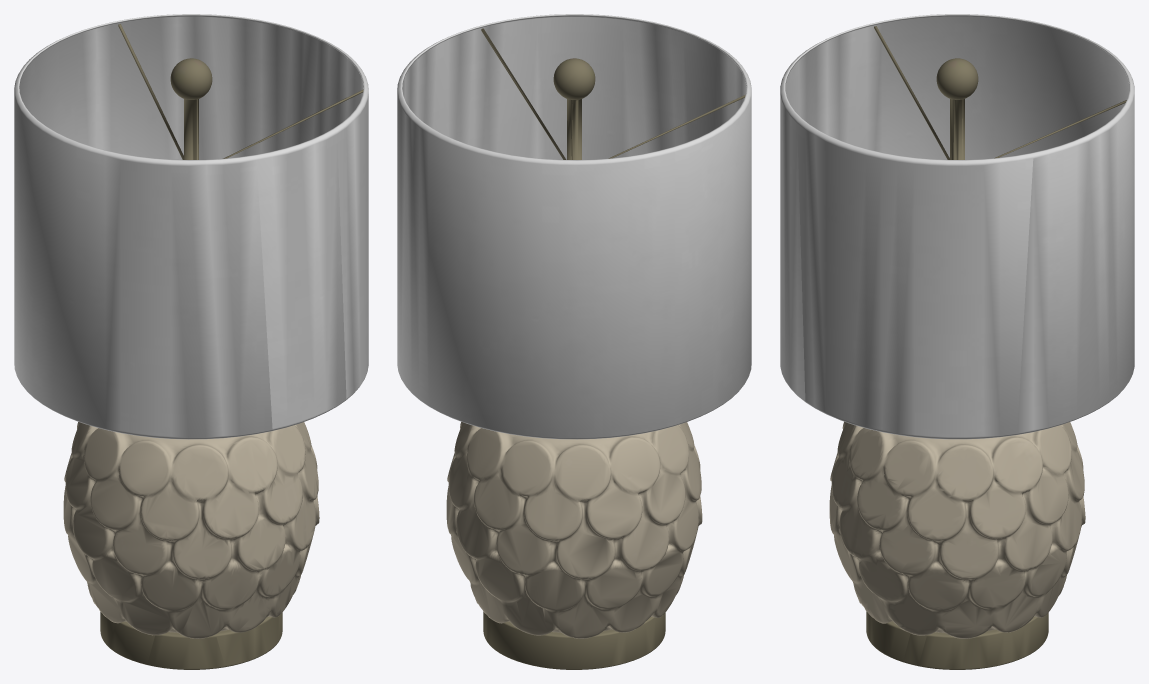
3 renders of one model, left to right at view 1: azimuth 30°, elevation 25°; view 2: azimuth 150°, elevation 25°; view 3: azimuth 270°, elevation 25°, orthographic.
Visible parts, largest first — view 1: RootNode; view 2: RootNode; view 3: RootNode.
Boxes of the visible parts, x1,y1,x2,y2 form: RootNode: (14,14,368,669); RootNode: (397,14,751,669); RootNode: (780,14,1134,669).
Size of the model in its own units: 0.2538 by 0.4521 by 0.2538.
Materials: 1 (1 with a texture image).
